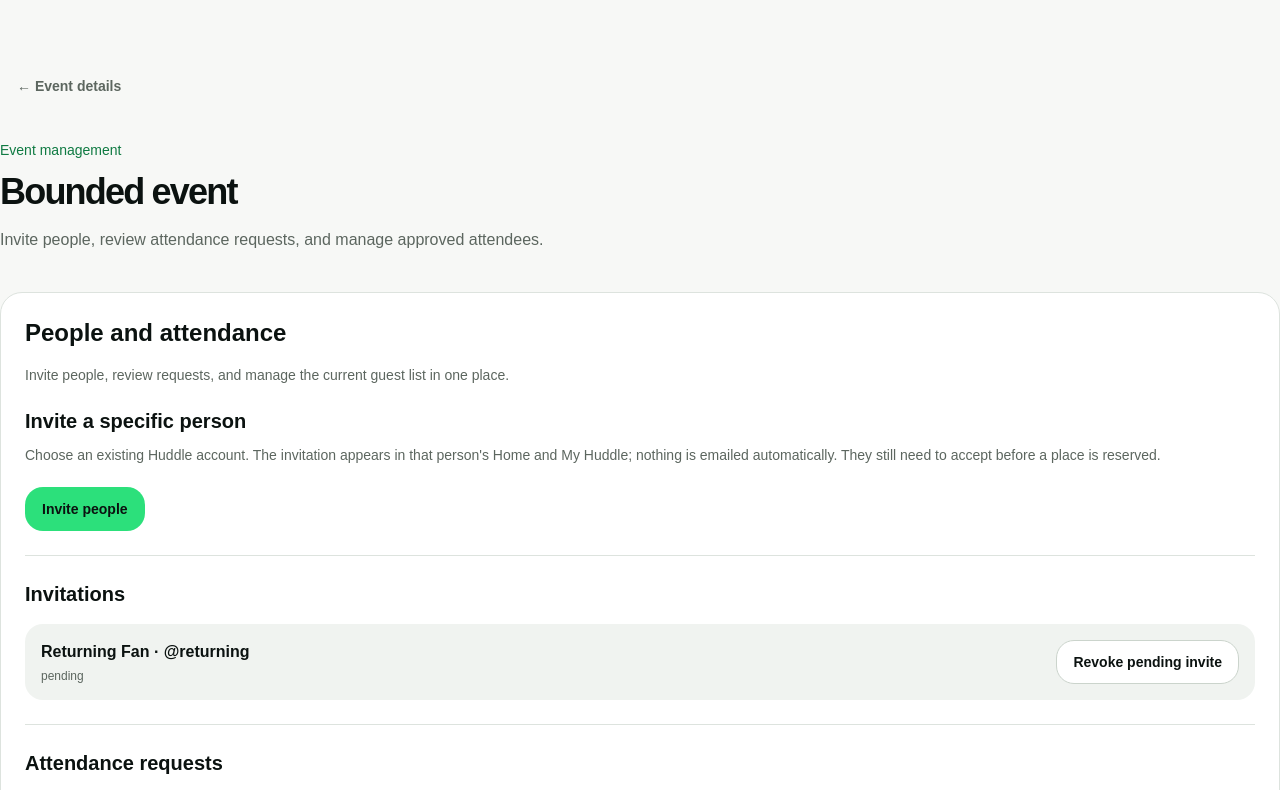
Test: ManageEventPage pagination › derives invitation eligibility for left attendance with pending invitation
Step 1. Click the button "Invite people" → click(85, 509), box [25, 487, 145, 531]
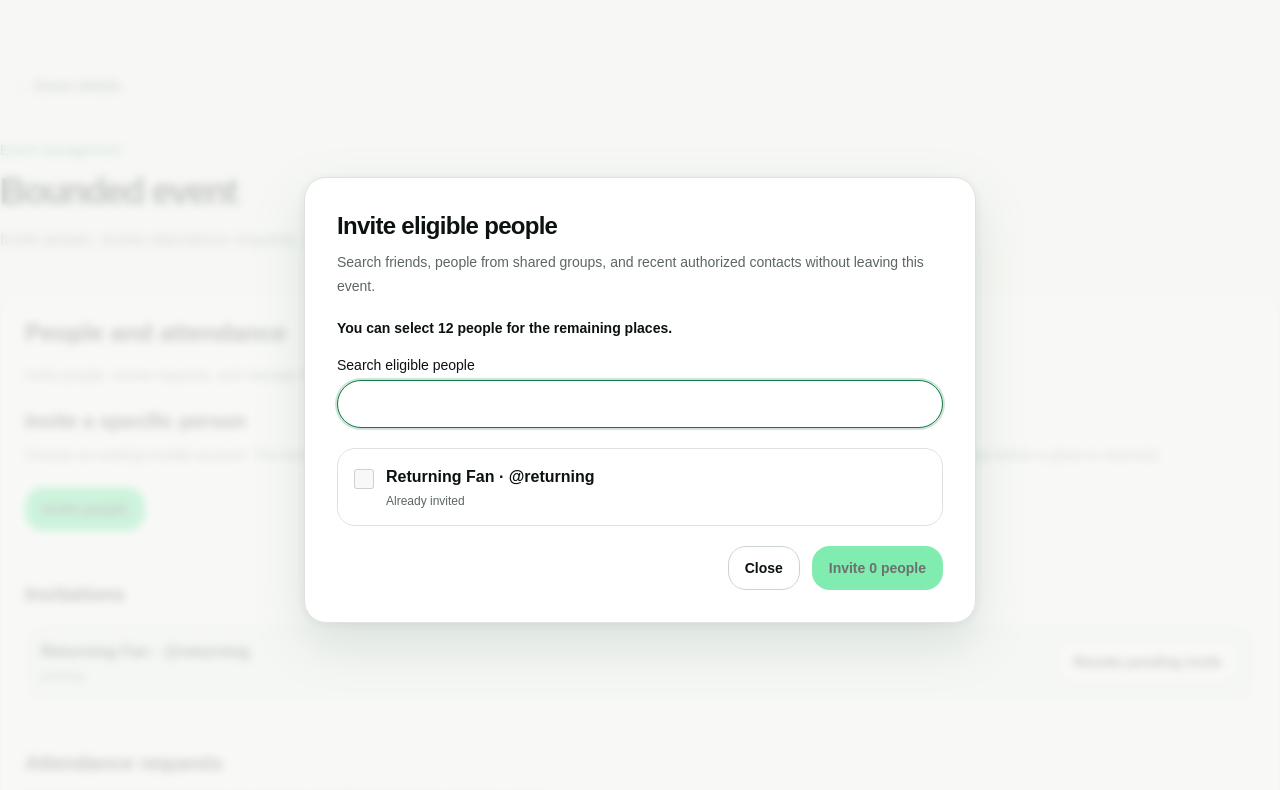
Expected: the checkbox named "Returning Fan @returning" is disabled, [354, 469, 374, 489]
